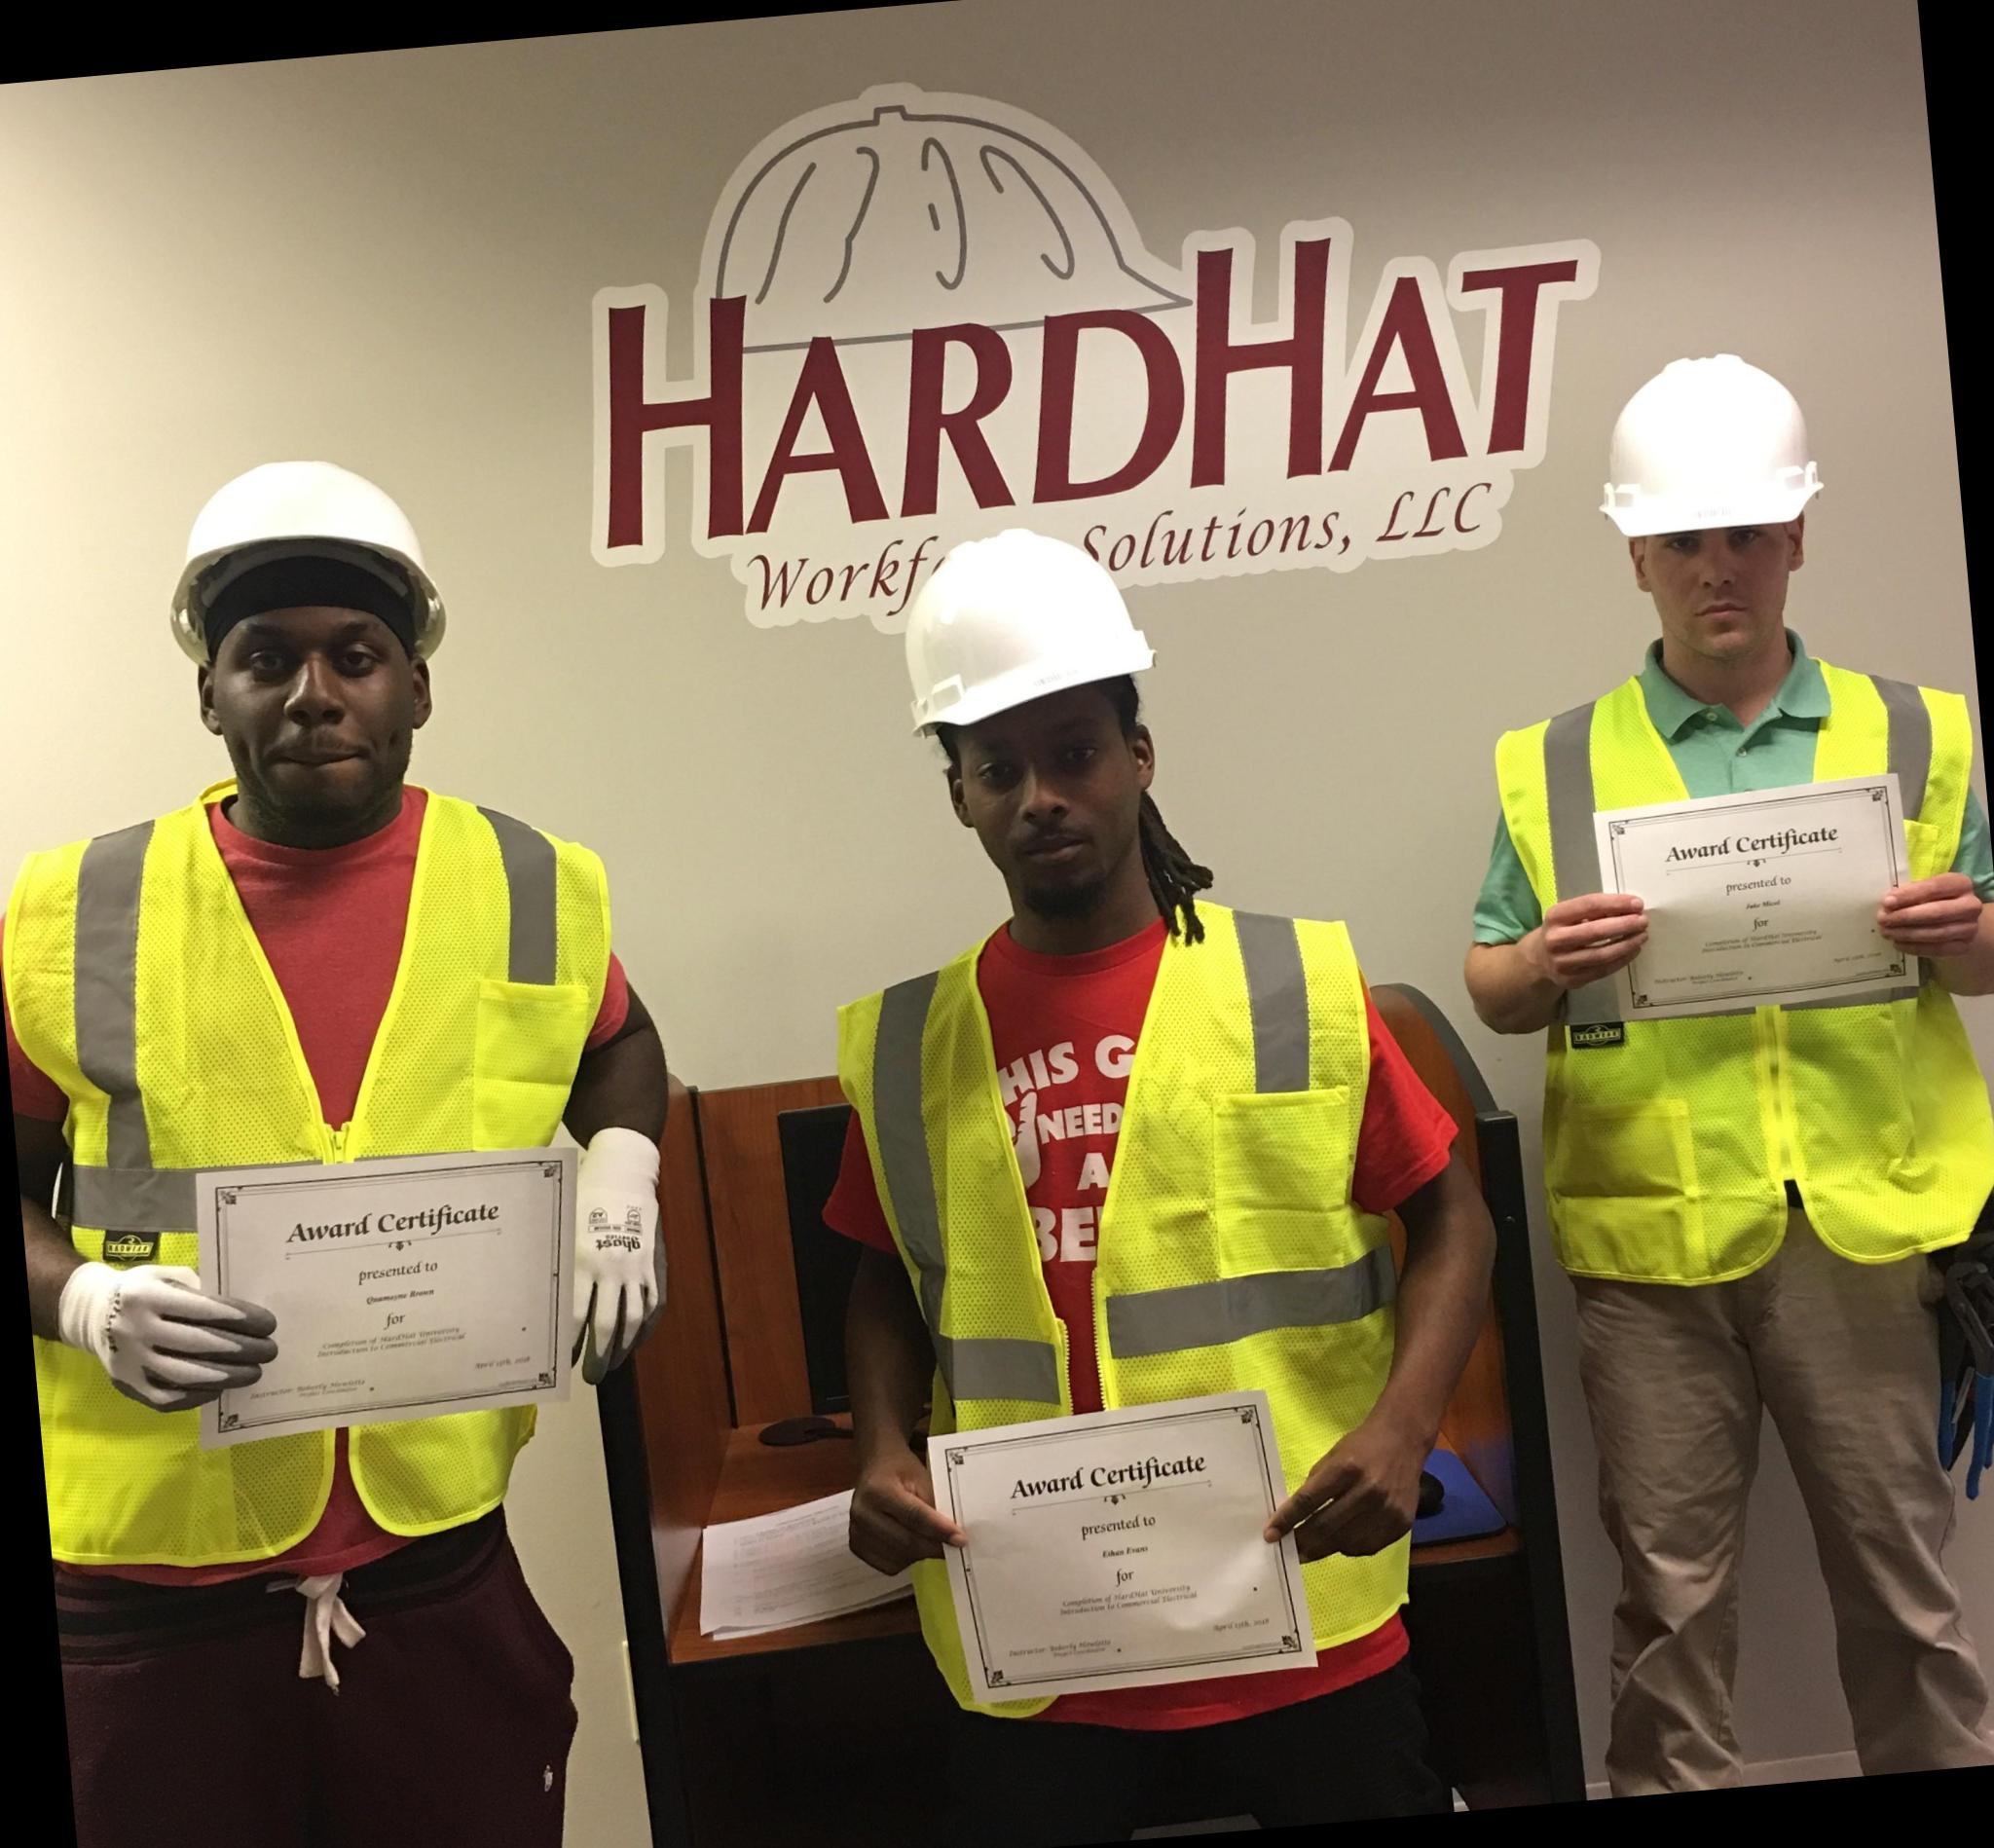Helmet: (104, 384, 495, 670), (1549, 327, 1892, 601), (862, 507, 1193, 754)
Vest: (9, 733, 690, 1605), (818, 877, 1494, 1699), (1497, 601, 1994, 1362)
